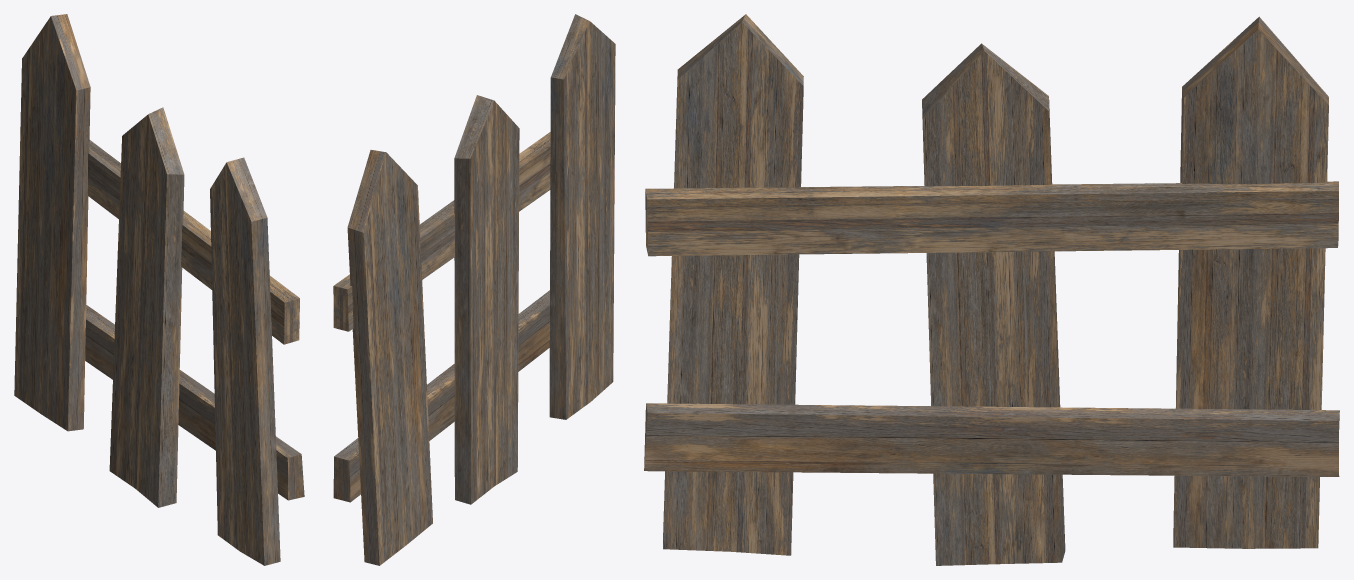
File: Fence.fbx
The picture shows the model from 3 angles, left to right: view 1: azimuth 30°, elevation 25°; view 2: azimuth 150°, elevation 25°; view 3: azimuth 270°, elevation 25°; orthographic projection. The views are drawn at different scales.
Visible parts, largest first — view 1: fence post.006, fence post.007, fence post.008, Cube.004, Cube.005; view 2: fence post.006, fence post.007, fence post.008, Cube.005, Cube.004; view 3: fence post.006, fence post.008, Cube.005, fence post.007, Cube.004.
Part boxes in pixels (left/top/right/bottom): fence post.006: left=14, top=14, right=90, bottom=431; fence post.007: left=109, top=107, right=184, bottom=507; fence post.008: left=210, top=157, right=280, bottom=565; Cube.004: left=88, top=140, right=299, bottom=344; Cube.005: left=85, top=305, right=304, bottom=500; fence post.006: left=347, top=150, right=432, bottom=565; fence post.007: left=454, top=95, right=519, bottom=504; fence post.008: left=549, top=14, right=615, bottom=419; Cube.005: left=333, top=290, right=549, bottom=502; Cube.004: left=333, top=132, right=550, bottom=331; fence post.006: left=1173, top=16, right=1328, bottom=548; fence post.008: left=663, top=14, right=803, bottom=555; Cube.005: left=644, top=403, right=1339, bottom=476; fence post.007: left=922, top=43, right=1065, bottom=565; Cube.004: left=645, top=181, right=1338, bottom=256.
Size of the model in its own units: 104 by 954 by 1103.
